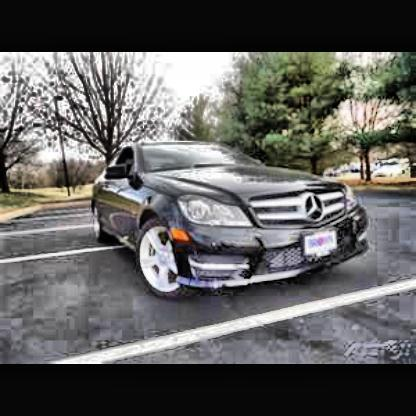Mercedes-Benz C-Class Sedan 2012: (91, 143, 372, 302)
